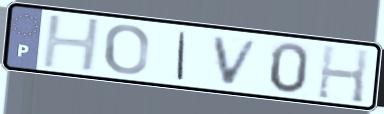0: (268, 40, 312, 96)
H: (39, 13, 104, 73), (314, 42, 372, 106)
I: (174, 29, 189, 82)
O: (102, 22, 151, 77)
V: (211, 34, 263, 88)
